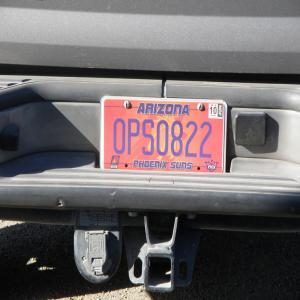Vehicle-registration-plate: (103, 95, 232, 180)
